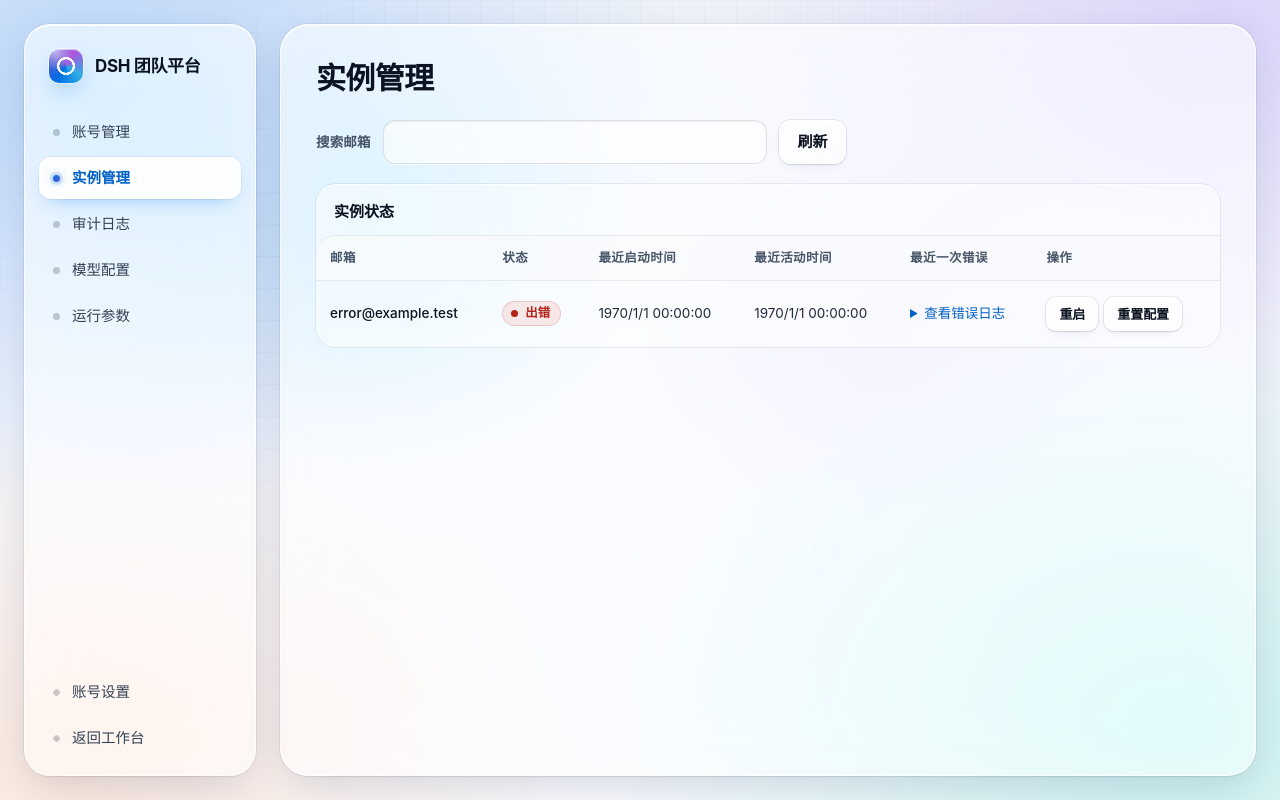
Test: current list authority 401 removes data even when its response body fails
Click the button "重置配置" at x=1143, y=314, box [1104,297,1182,331]
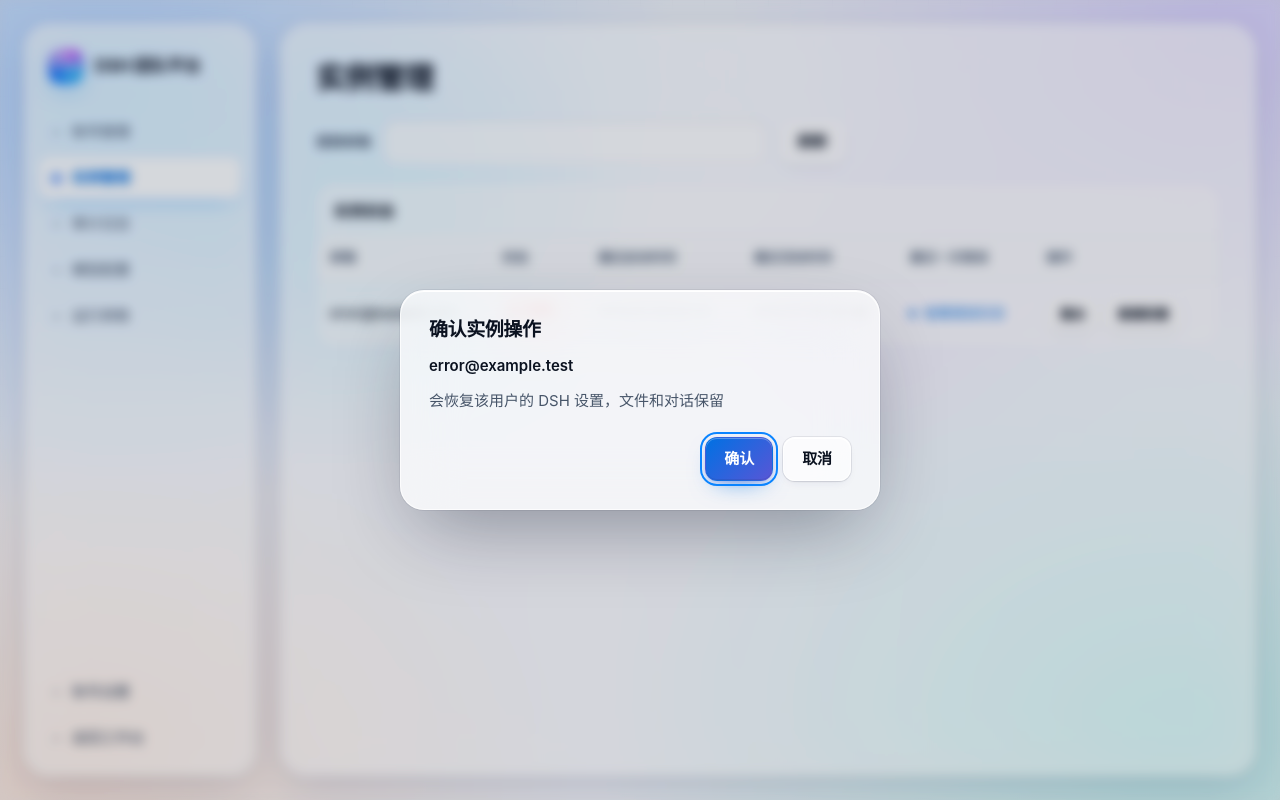
Click the button "刷新" at x=812, y=142, box [778,120,846,164]
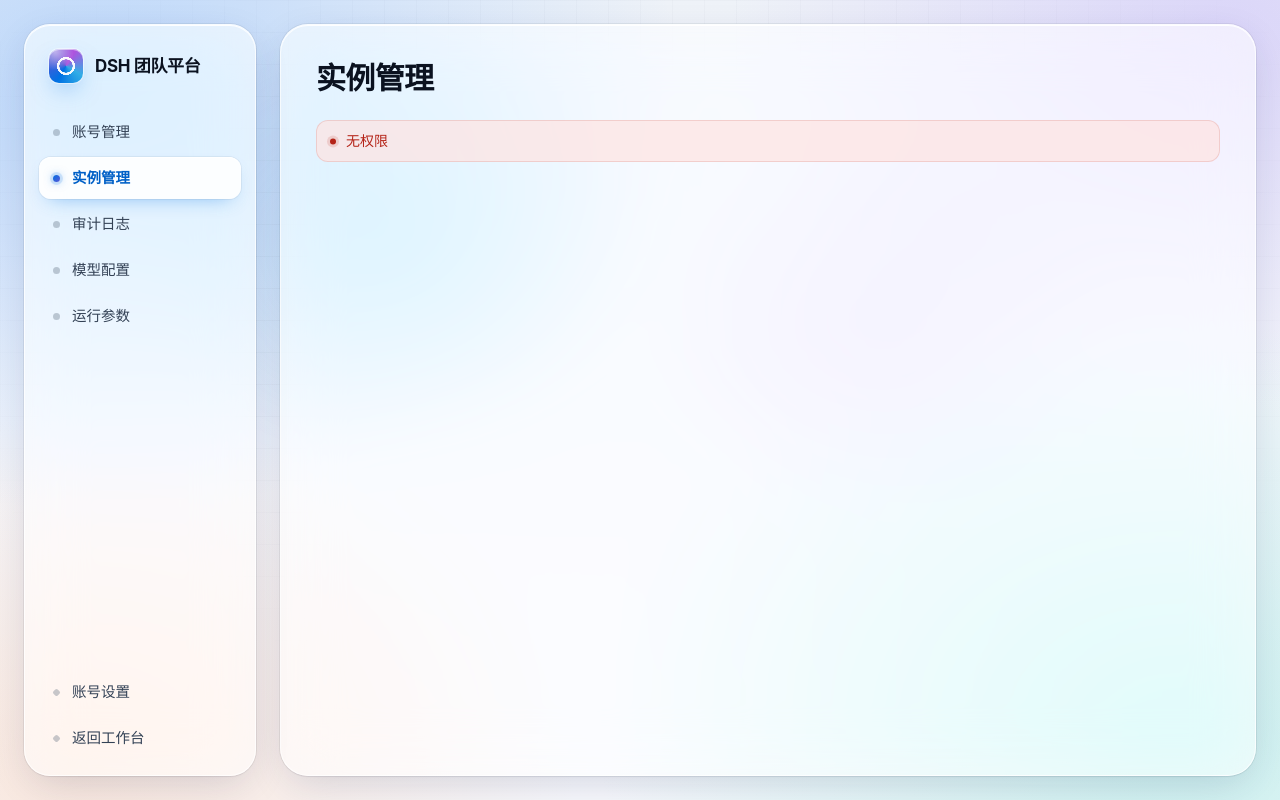
Expected: the text "无权限" is shown, [316,120,1220,162]
Expected: the table is gone
Expected: the button "刷新" is gone
